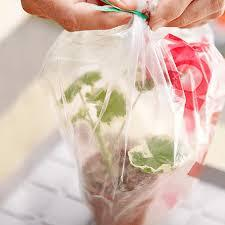Plastic bag: (44, 8, 225, 219)
